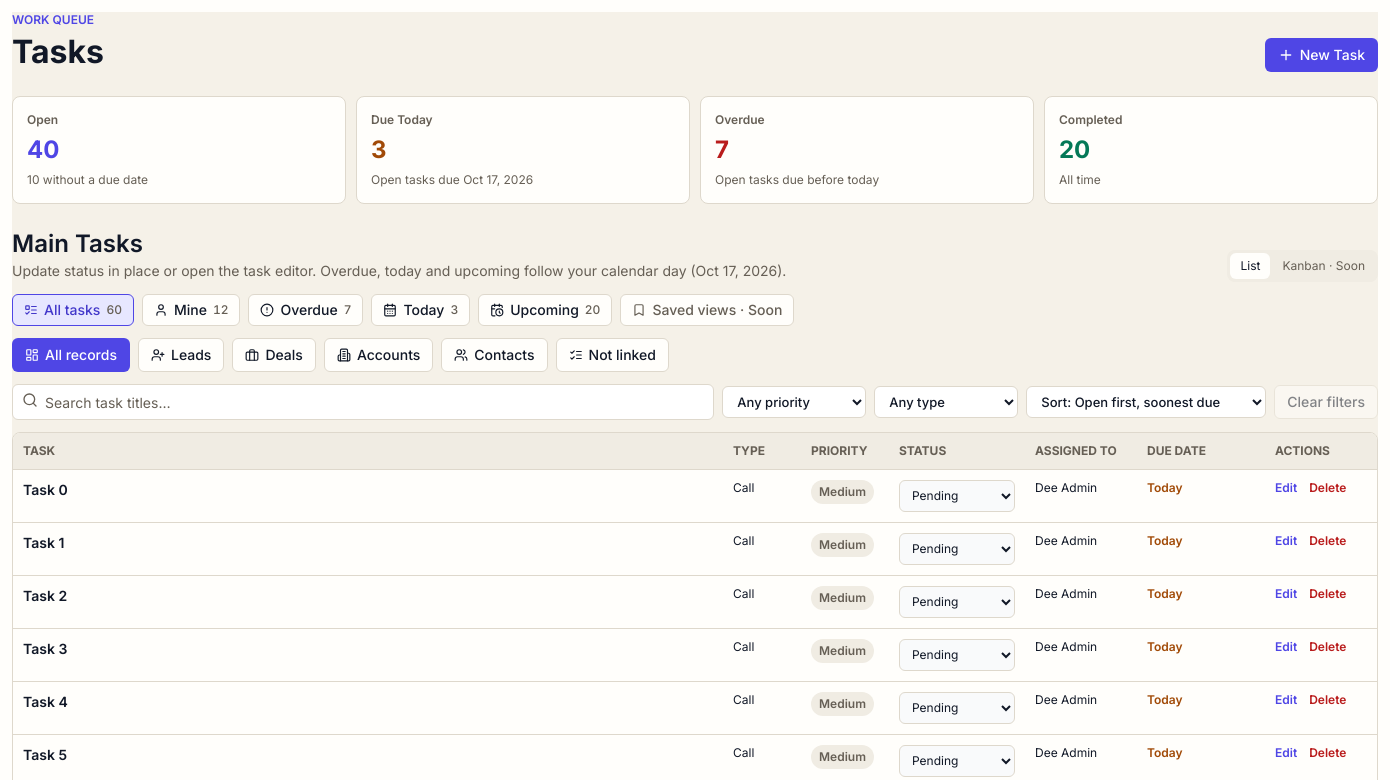
Tasks — one server page, server counts › a refused status change stays on the row and does not reload
Select "Completed" in the dropdown named "Status of Task 0" at (957, 496), box [899, 480, 1015, 512]
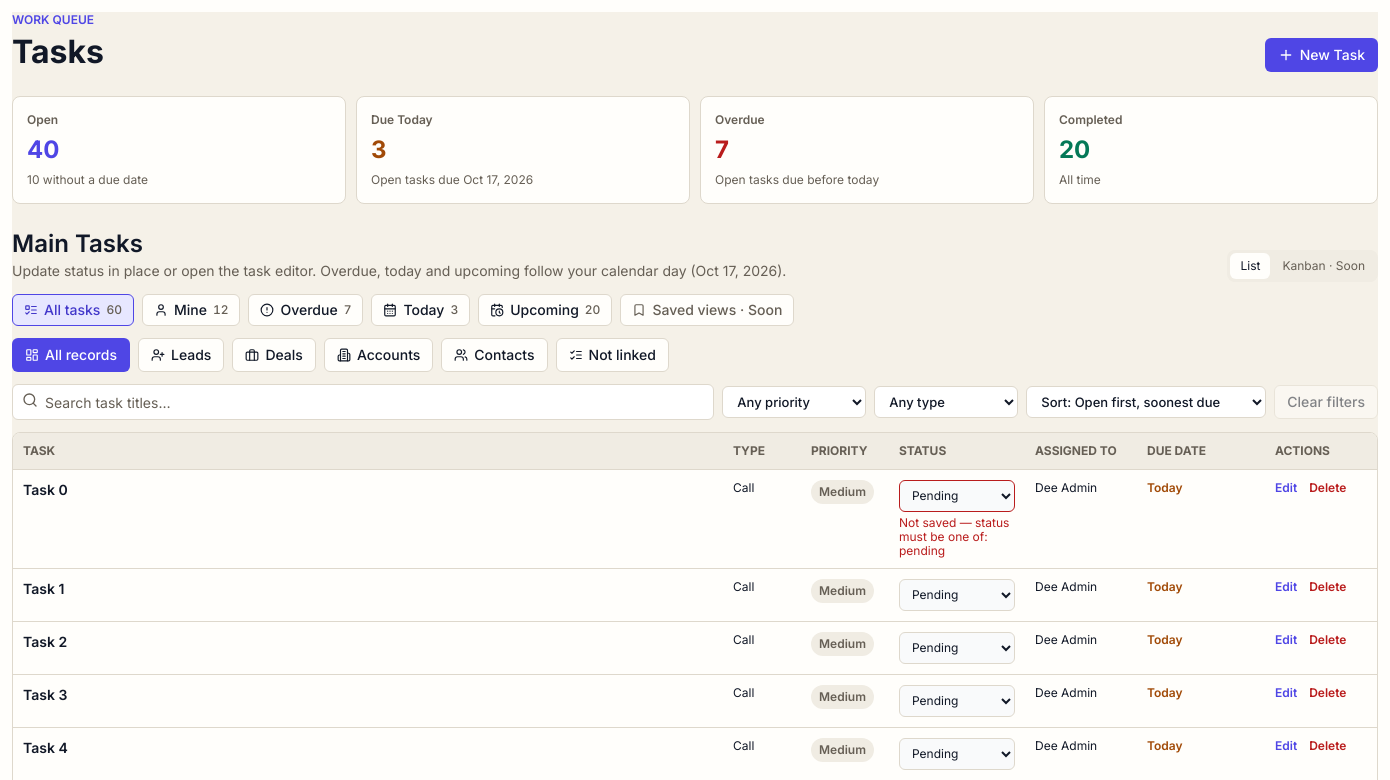
Expected: the text "Not saved — status must be one of: pending" is shown, [899, 516, 1015, 558]
